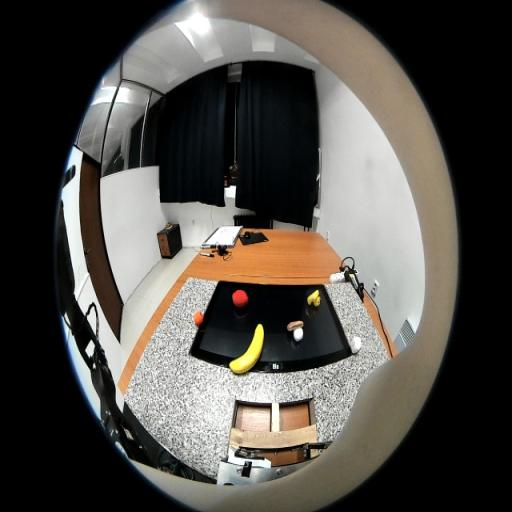Banana: (229, 323, 264, 374)
Duck: (307, 289, 321, 307)
Mushroom: (286, 320, 304, 342)
Onion: (349, 336, 361, 354)
Orange: (194, 310, 204, 326)
Tomato: (232, 290, 248, 307)
